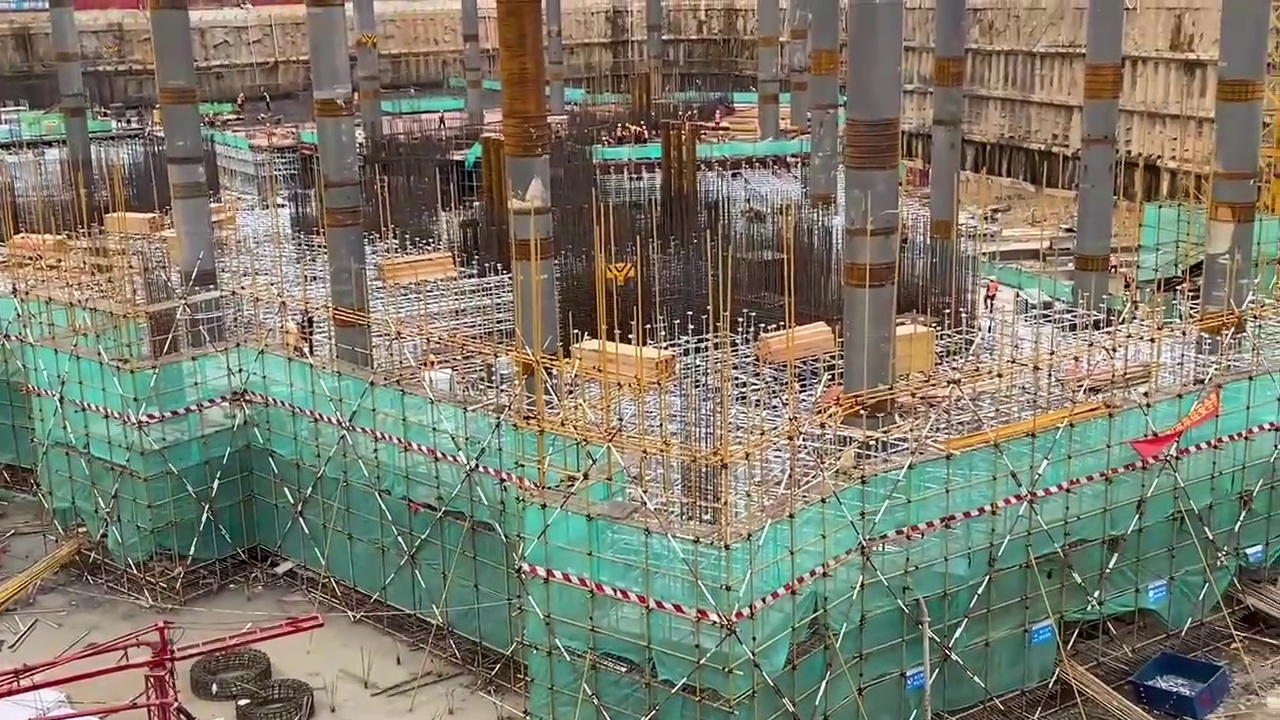hook: (603, 262, 638, 286)
hopper: (1125, 643, 1230, 711)
person: (978, 276, 1001, 311)
wood: (577, 337, 679, 384), (757, 322, 838, 357), (381, 257, 464, 284), (103, 206, 161, 232)
